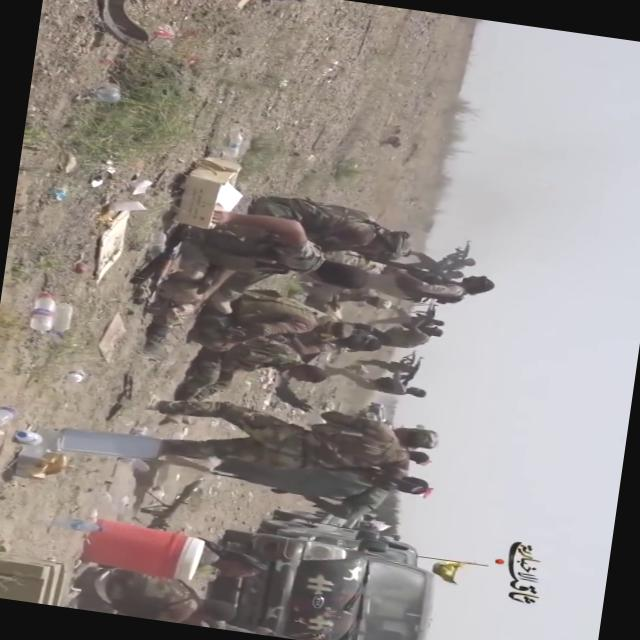long weapon: (392, 354, 424, 391), (416, 294, 444, 321), (451, 239, 476, 264)
